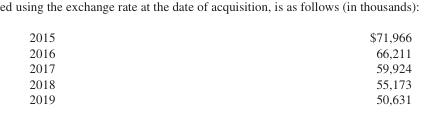table: (28, 29, 410, 105)
table column: (211, 29, 410, 105), (28, 29, 211, 105)
table row: (28, 59, 410, 75), (28, 29, 410, 44), (28, 44, 410, 59), (28, 75, 410, 90), (28, 90, 410, 105)
